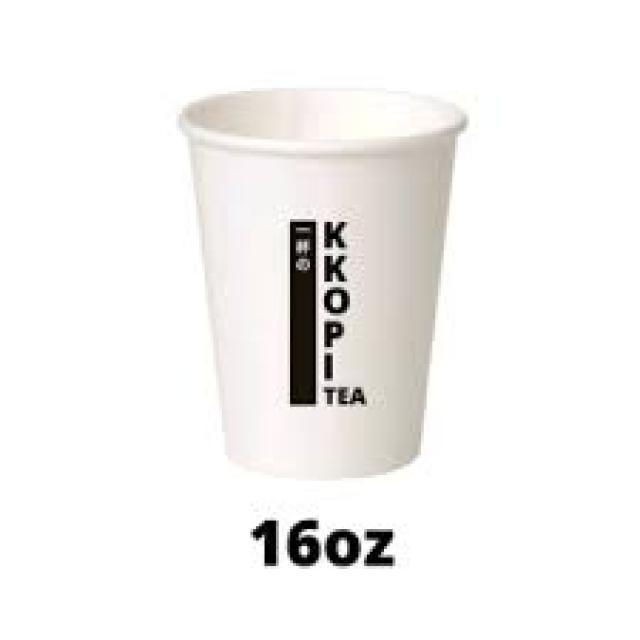cup: (150, 49, 490, 509)
